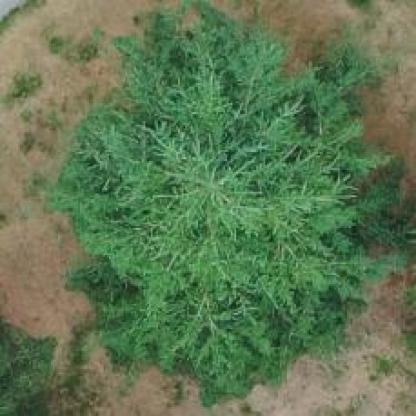Coniferous Tree: (71, 13, 416, 393)
